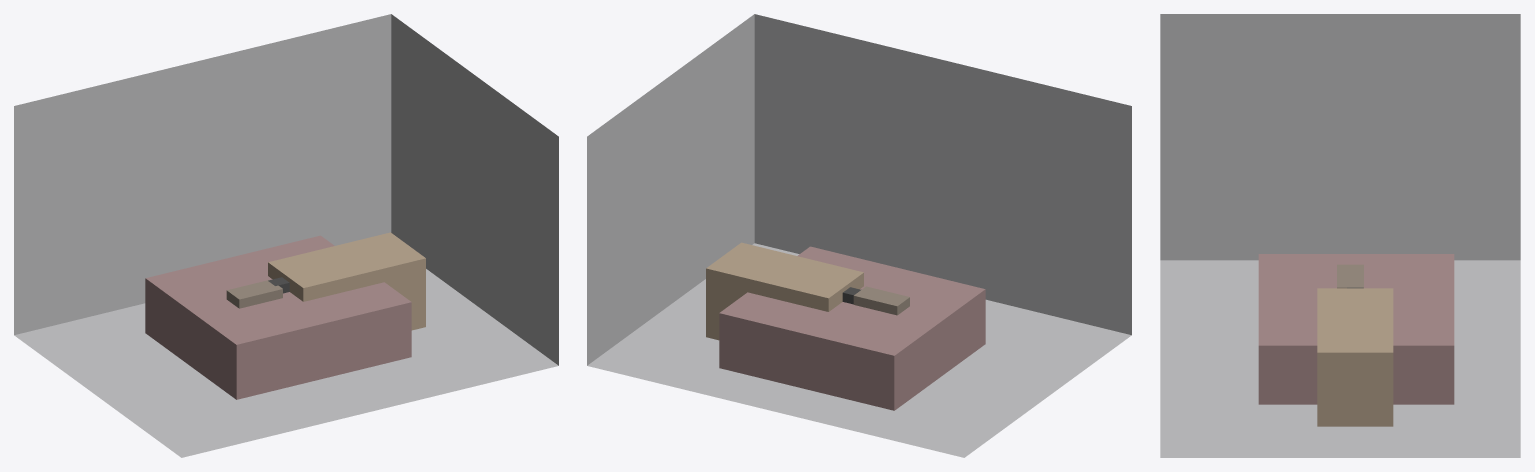
Rendered from optimised_layout.glb.
The picture shows the model from 3 angles, left to right: view 1: azimuth 30°, elevation 25°; view 2: azimuth 150°, elevation 25°; view 3: azimuth 270°, elevation 25°; orthographic projection. The views are drawn at different scales.
Parts seen in each view (by area): view 1: room, bed, desk, suitcase; view 2: room, bed, desk, suitcase; view 3: room, bed, desk, suitcase.
Part boxes in pixels (bbox=[...]): room: bbox=[14, 14, 558, 457]; bed: bbox=[145, 235, 411, 399]; desk: bbox=[268, 232, 425, 330]; suitcase: bbox=[226, 279, 282, 308]; room: bbox=[587, 14, 1131, 457]; bed: bbox=[719, 246, 985, 410]; desk: bbox=[706, 242, 863, 340]; suitcase: bbox=[853, 286, 909, 315]; room: bbox=[1160, 14, 1520, 457]; bed: bbox=[1258, 254, 1454, 404]; desk: bbox=[1317, 288, 1393, 426]; suitcase: bbox=[1337, 264, 1363, 288].
Bounding box in the file's own units: 4.31 × 2.5 × 3.31.
